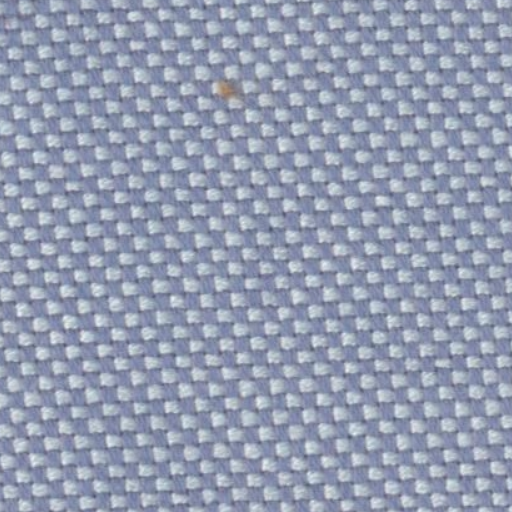WuZi: (200, 66, 244, 106)
